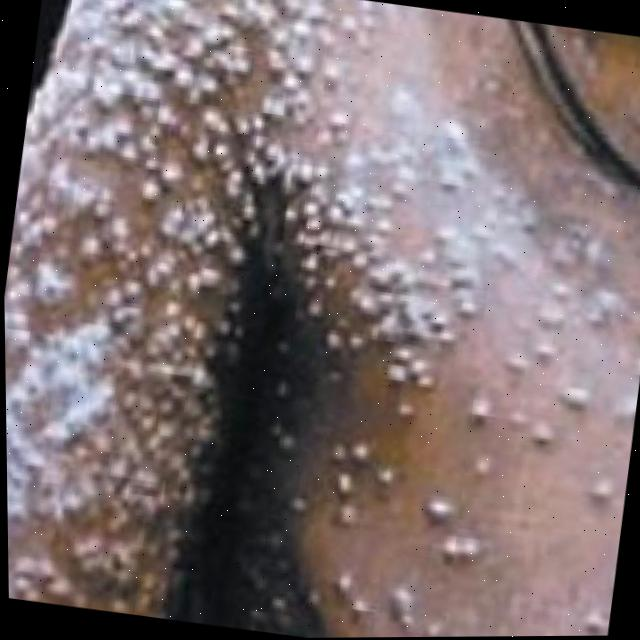Eczema: (0, 0, 633, 640)
